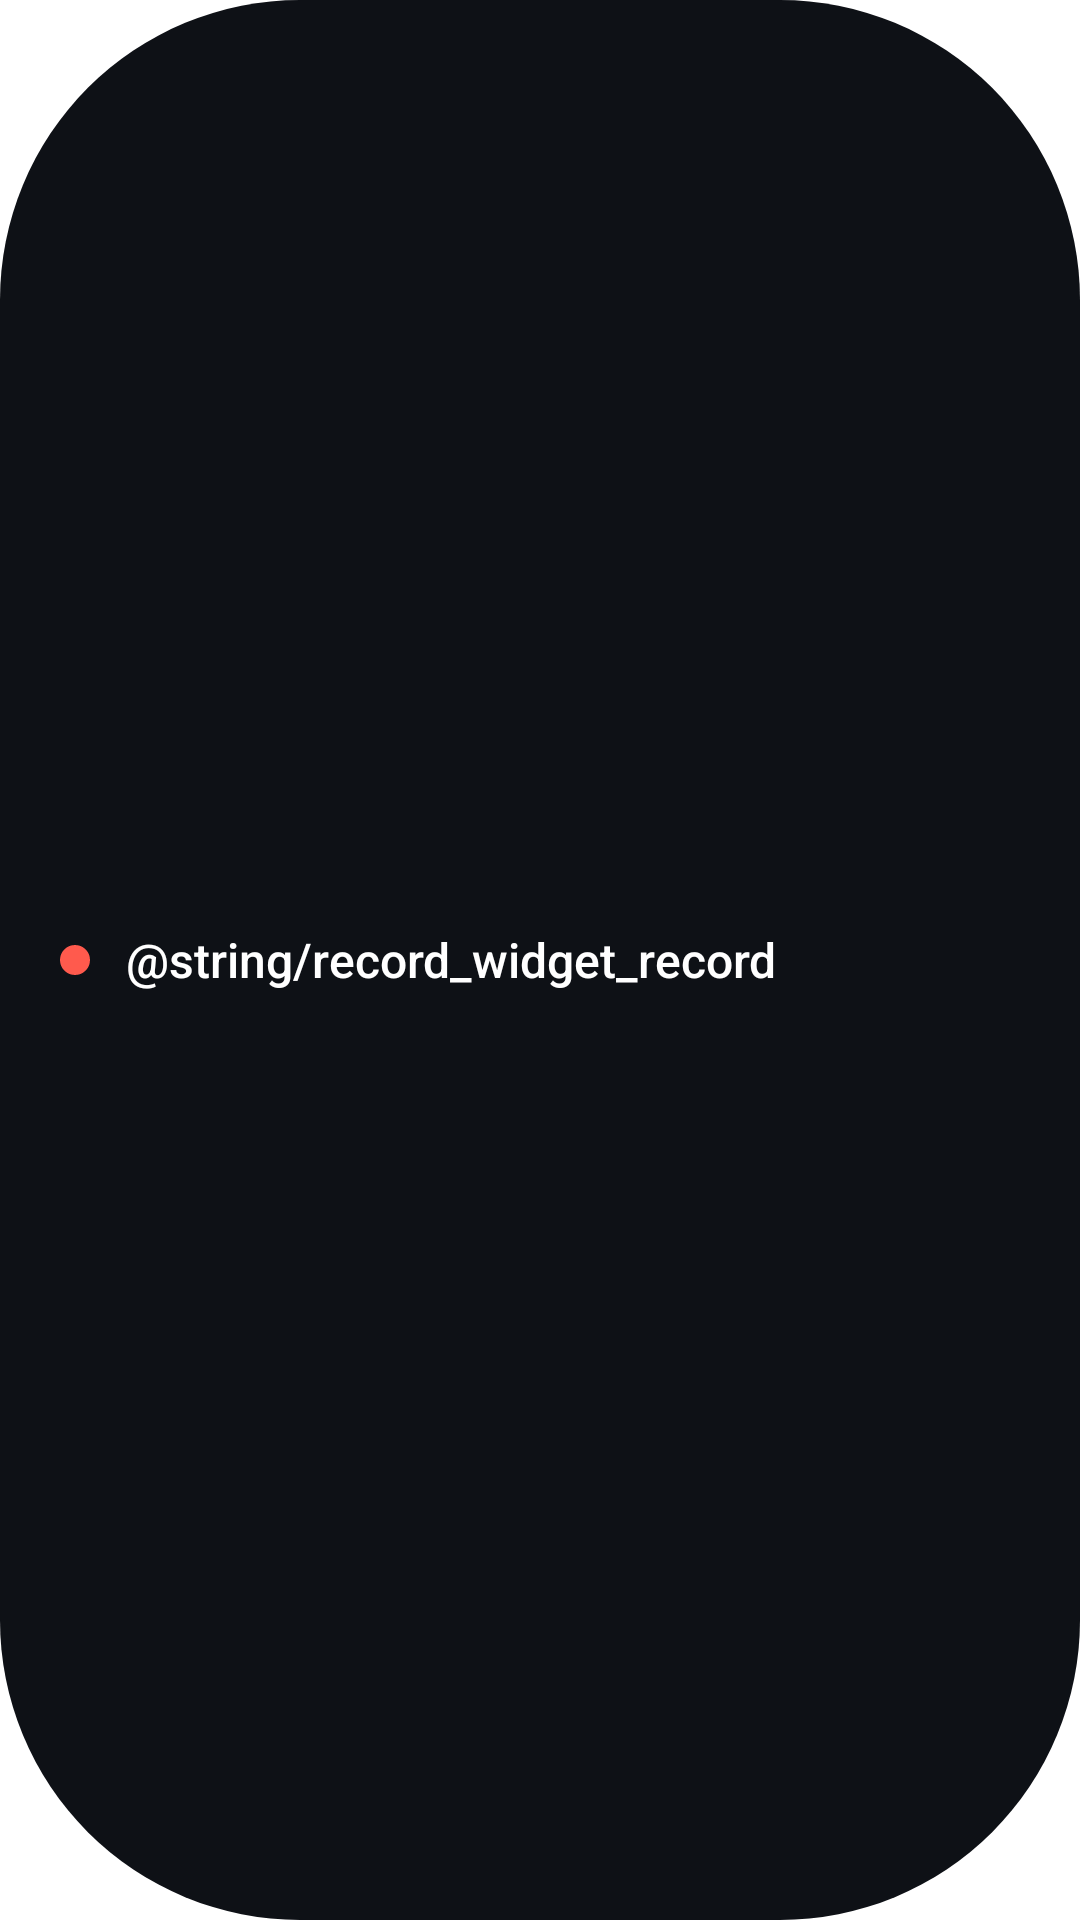

Named icons in this screenshot (1080 × 1920) and their bounding boxes, (x1=x1, y1=y1, x2=x2, y2=y2):
record widget dot: (x1=60, y1=945, x2=90, y2=975)
